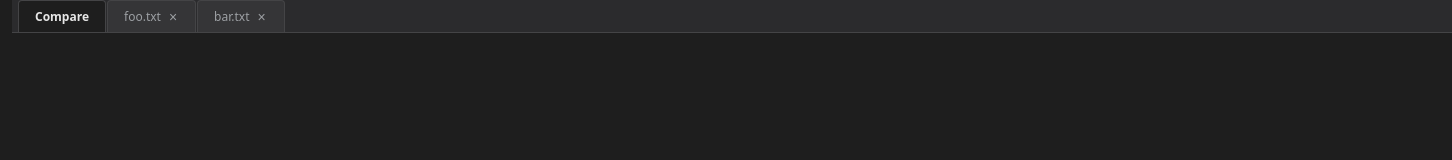
Test: <Tabs /> › right-click opens a context menu with Close / Close Others / Close All
Right-click the tab "foo.txt ×" at point(152, 16), box [107, 0, 196, 32]
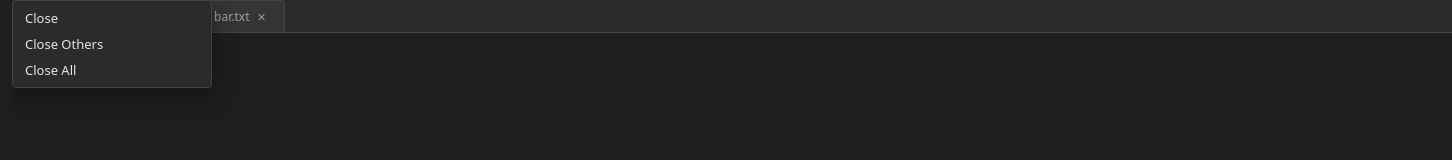
Expected: the menu with test id "tab-context-menu" is shown, [12, 0, 212, 88]
Expected: the menu item "Close" is enabled, [13, 5, 211, 31]
Expected: the menu item "Close Others" is enabled, [13, 31, 211, 57]
